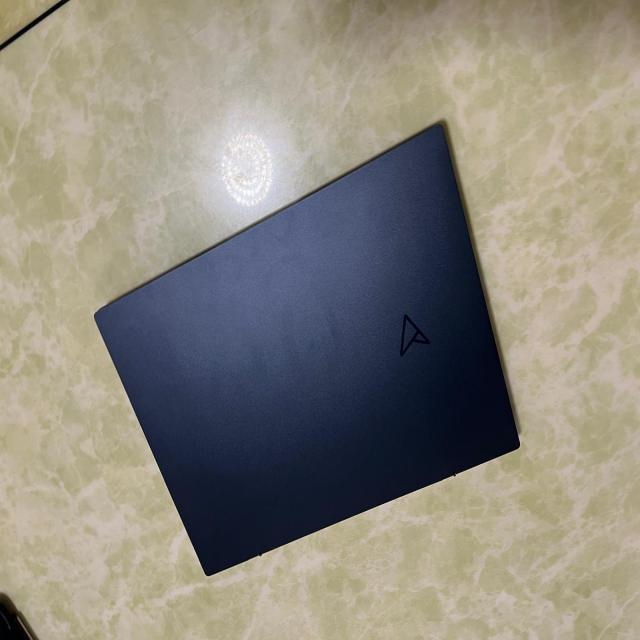laptop: (92, 117, 521, 576)
